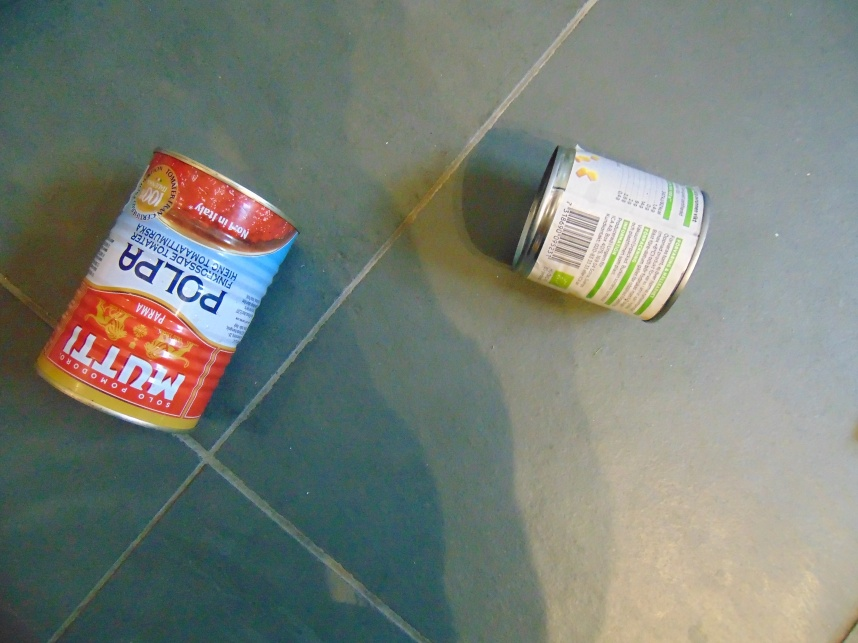metal_can: (32, 145, 303, 437), (508, 144, 713, 325)
